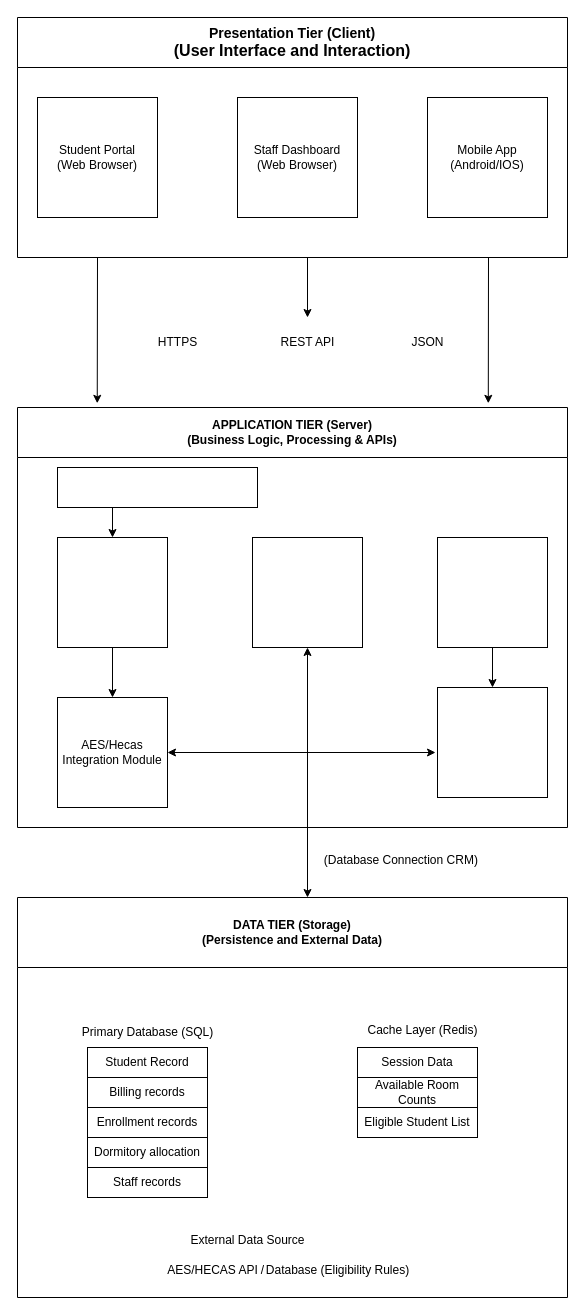
Image size: 585x1315. Some labels were removed from this diagram. The centre of each missing label's shape, as x and y in pixels:
"Admission Services (P2)" belongs at point 112,592.
"API Gateway and Load Balancer" belongs at point 157,487.
"Dormitory Service (P3)" belongs at point 492,592.
"Enrollment Service (P1)" belongs at point 307,592.
"Notification Service (Email)" belongs at point 492,742.
